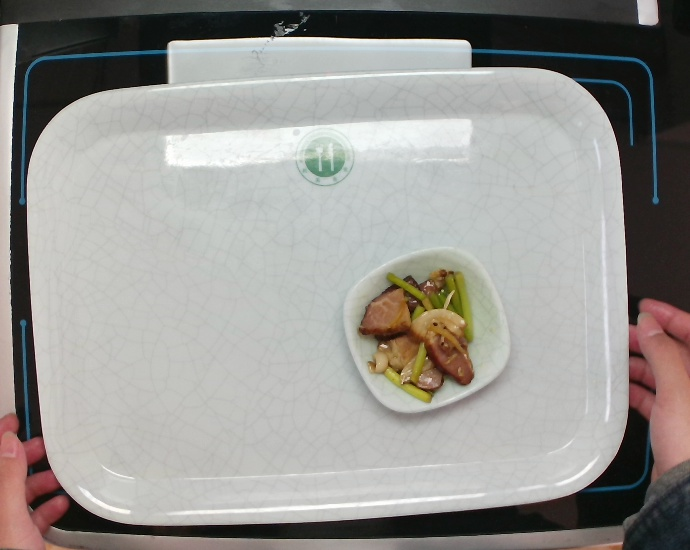JYsf-Si_Fang_Die: (340, 243, 514, 415)
